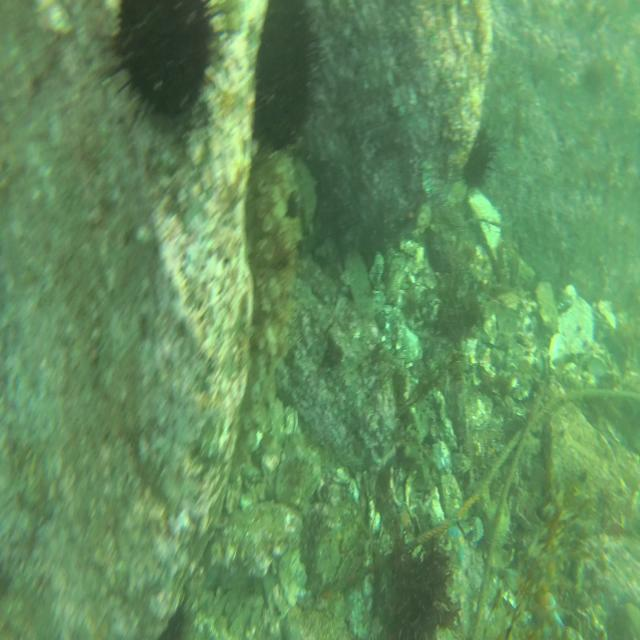echinus: (106, 0, 218, 138), (251, 0, 323, 148), (465, 128, 497, 188)
